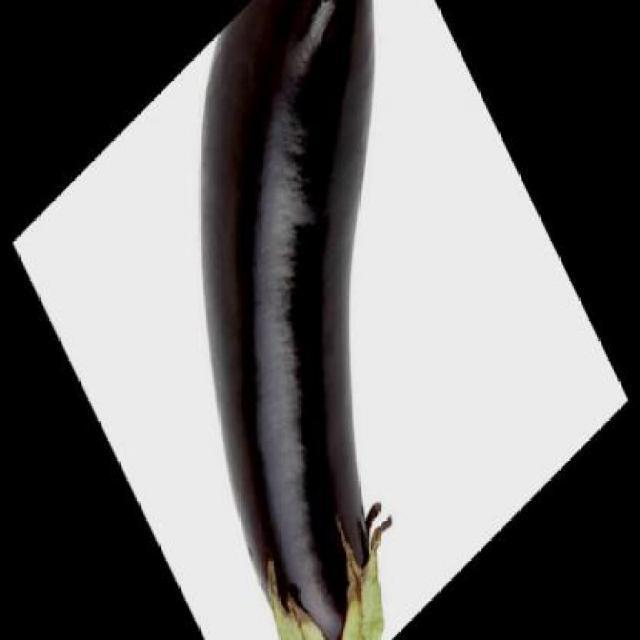eggplant: (192, 0, 397, 640)
